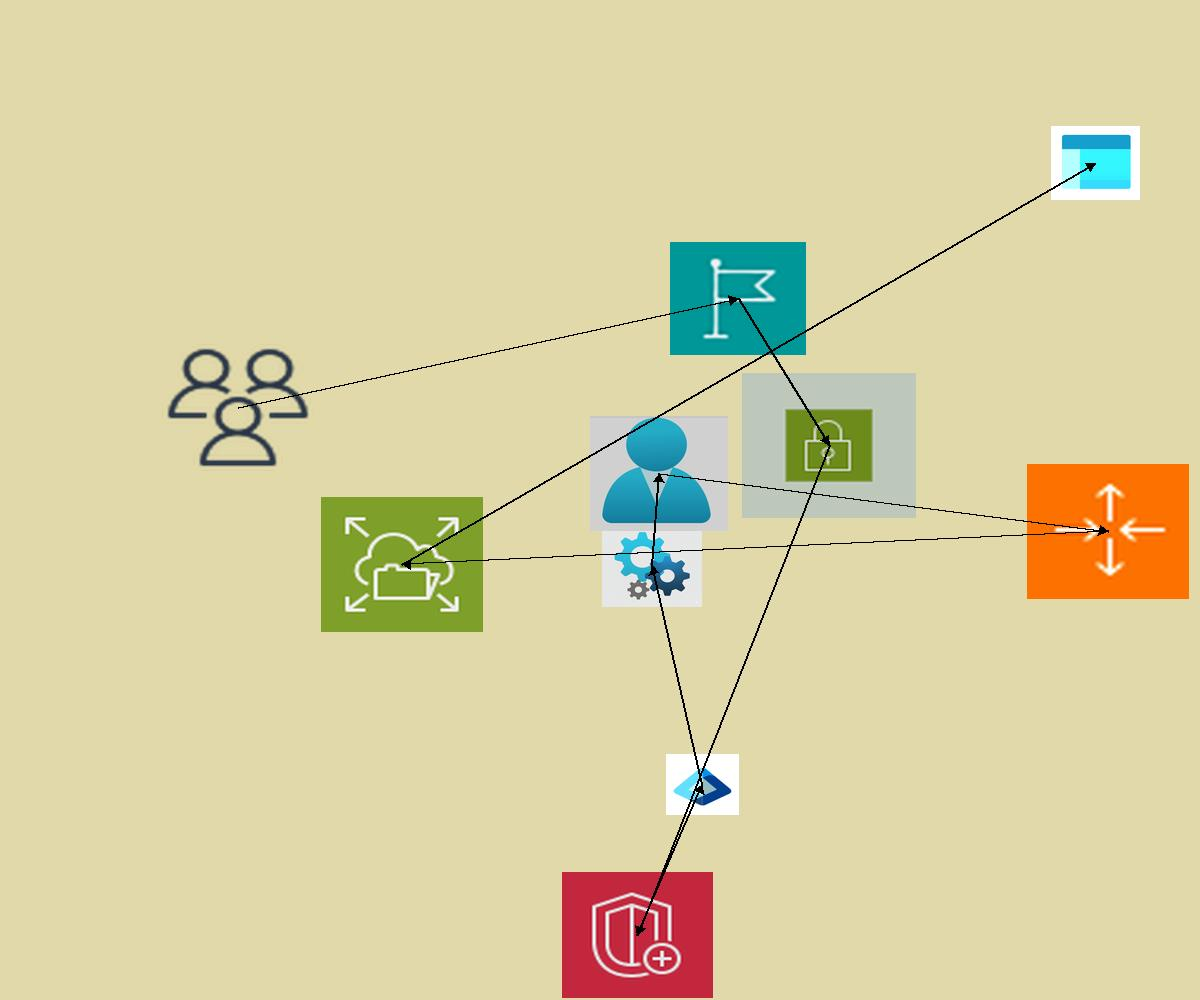AWS-EFS: (321, 497, 483, 632)
AWS-Public-subnet: (742, 373, 916, 518)
AWS-Region: (670, 242, 806, 355)
AWS-Res_Users: (162, 344, 314, 471)
AWS-Scaling-group: (1027, 464, 1189, 599)
AWS-Shield: (562, 872, 713, 998)
Azure_api: (602, 524, 702, 607)
Azure_management-portal: (1051, 126, 1140, 200)
Azure_microsoft_entra: (666, 754, 739, 815)
Azure_users: (590, 416, 728, 531)
